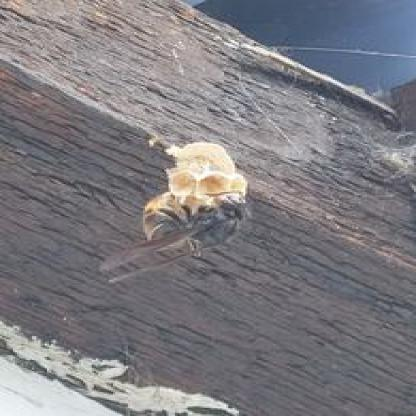Asian Hornet: (92, 191, 262, 291)
